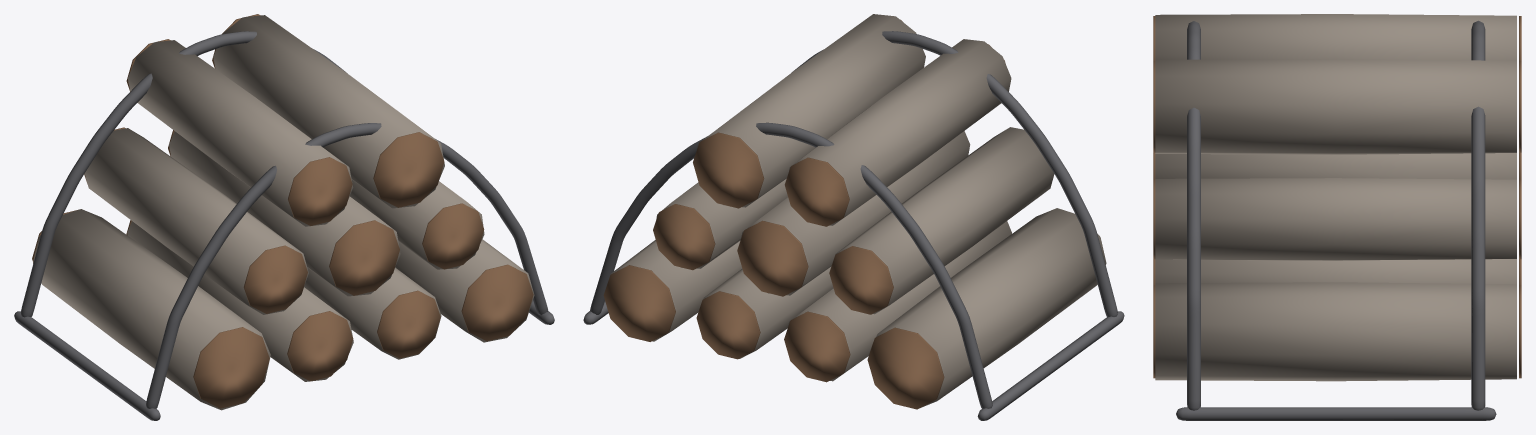
Rendered from log_pile.glb.
3 views of the same model, side by side, from view 1: azimuth 30°, elevation 25°; view 2: azimuth 150°, elevation 25°; view 3: azimuth 270°, elevation 25° (orthographic). The views are drawn at different scales.
Visible parts, largest first — view 1: log_pile; view 2: log_pile; view 3: log_pile.
Part boxes in pixels (x1=…): log_pile: x1=14, y1=14, x2=554, y2=420; log_pile: x1=583, y1=14, x2=1124, y2=420; log_pile: x1=1153, y1=14, x2=1521, y2=420.
Bounding box in the file's own units: 0.822 × 0.4714 × 0.57.
